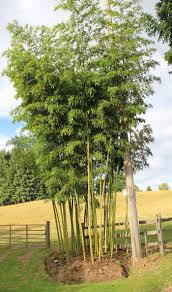bamboo: (6, 2, 152, 189), (51, 43, 116, 260)
